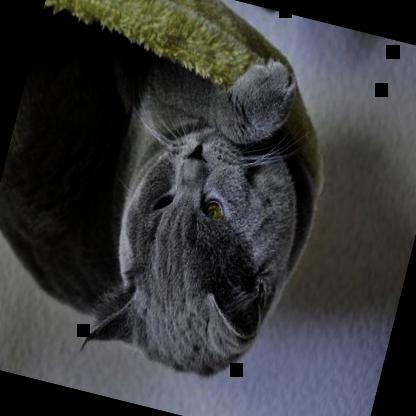cat: (0, 3, 351, 398)
